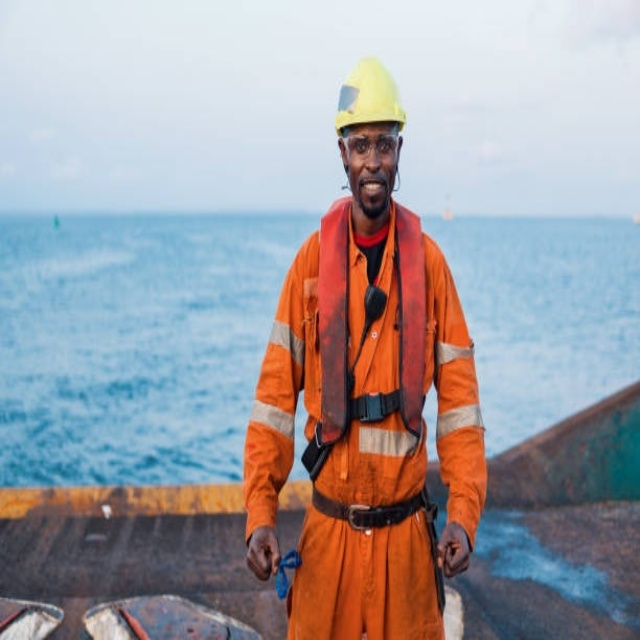Gafas: (340, 127, 402, 160)
Sin_guantes: (247, 524, 281, 580), (438, 521, 471, 578)
Sin_mascara: (357, 173, 387, 212)
